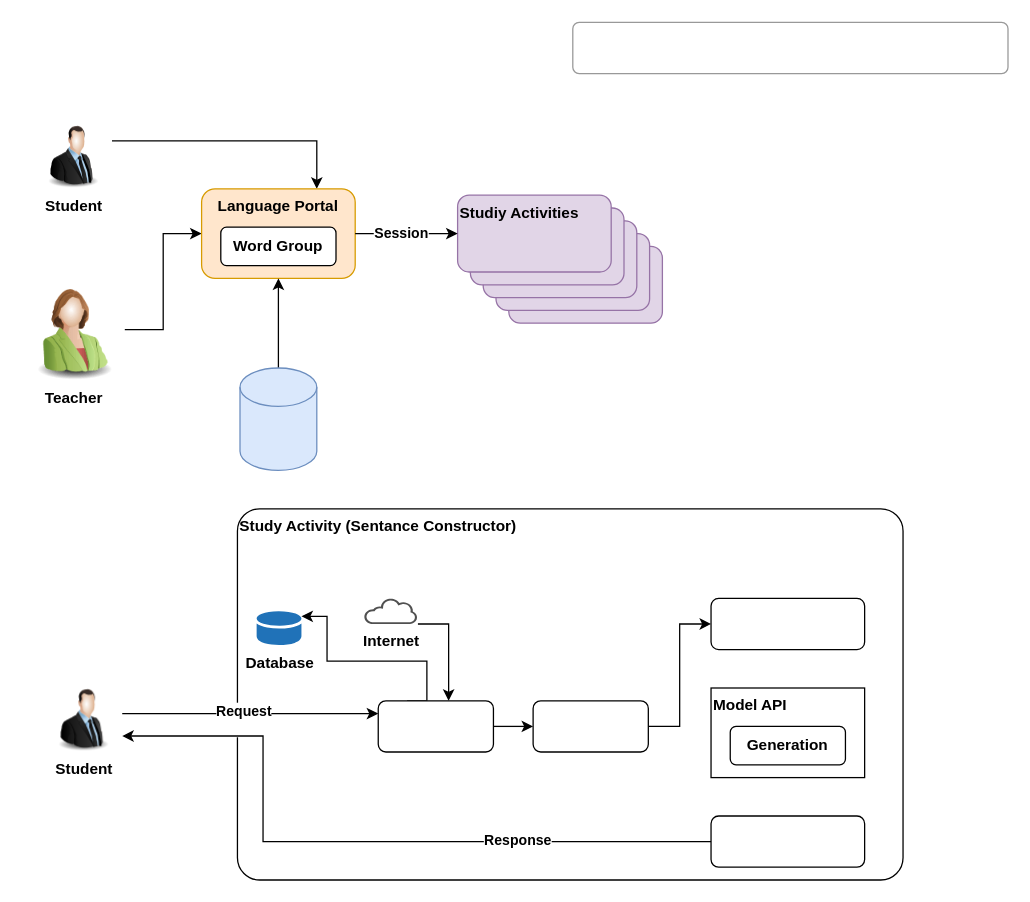
Image size: 1030x902. Some labels were removed from this diagram. Here are the shapes that lost their labels. From the top down, the centre of each, then its label:
At point (790, 47): "Conceptual Diagram".
At point (278, 418): "Database 2000 words".
At point (787, 623): "Input Guard Rail".
At point (435, 726): "RAG".
At point (590, 726): "Prompt Cache".
At point (787, 841): "Output Guard Rail".
